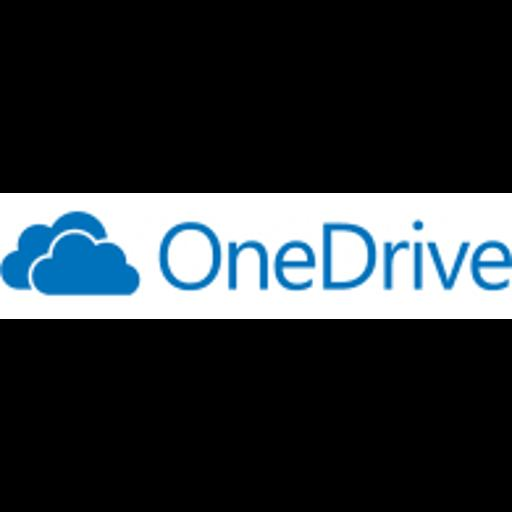Microsoft OneDrive: (0, 193, 512, 319)
